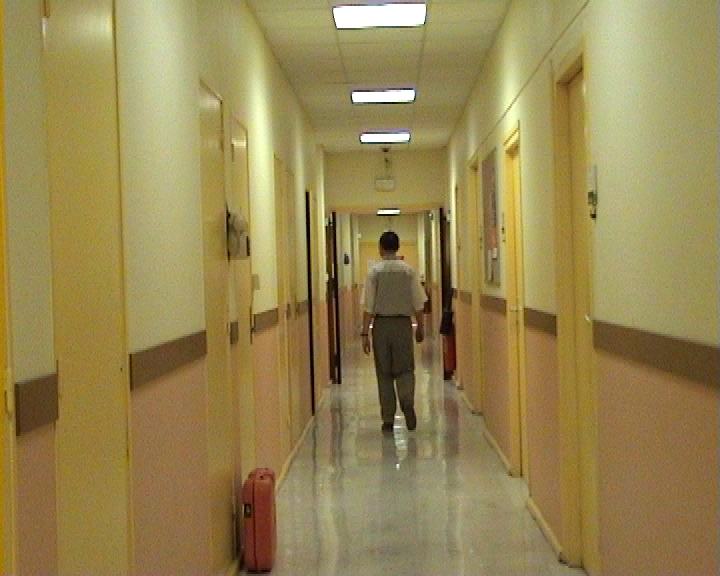leave bag unattended: (209, 436, 302, 576)
